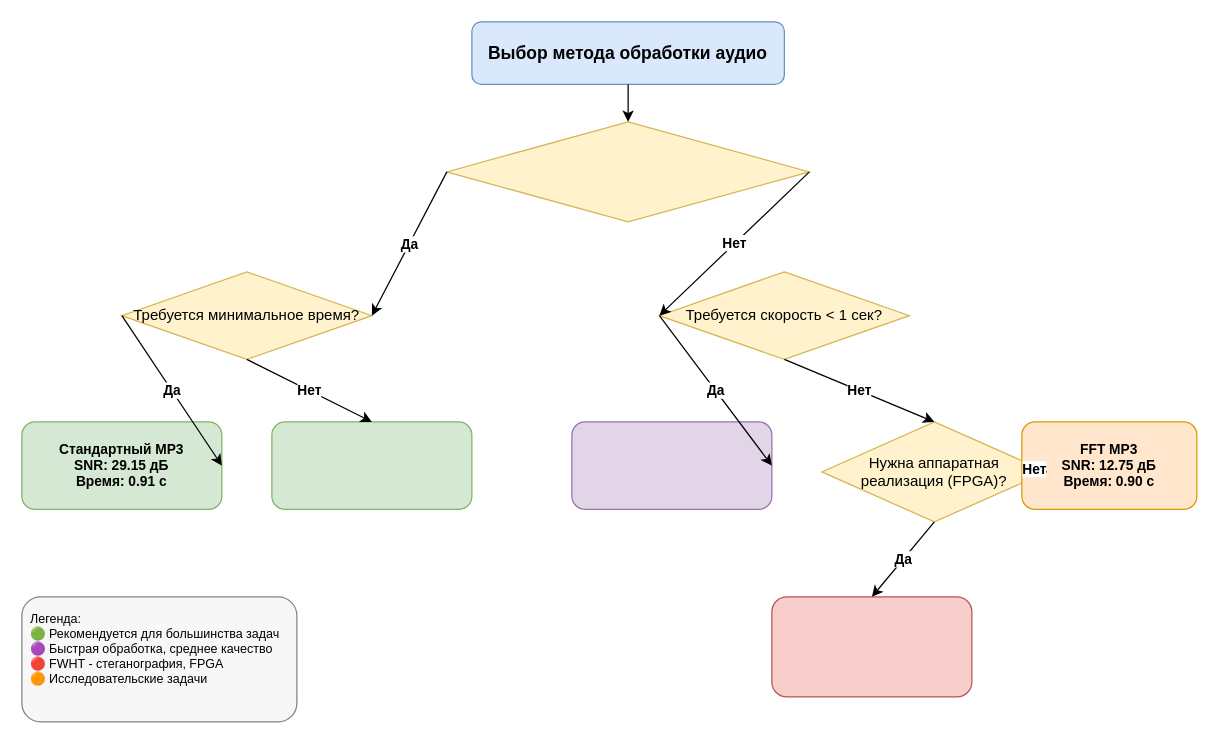
Some shapes in this 1219 by 744 pixel diagram are drawn without their labels. Each missing label, with the centre of its shape:
"FWHT MP3 SNR: 13.59 дБ Время: 1.53 с (без умножителей)" belongs at point (871, 646).
"Розенброк MP3 SNR: 14.65 дБ Время: 0.60 с" belongs at point (671, 465).
"Требуется высокое качество (SNR > 20 дБ)?" belongs at point (627, 171).
"Хаффман MP3 SNR: 27.87 дБ Время: 0.76 с" belongs at point (371, 465).
